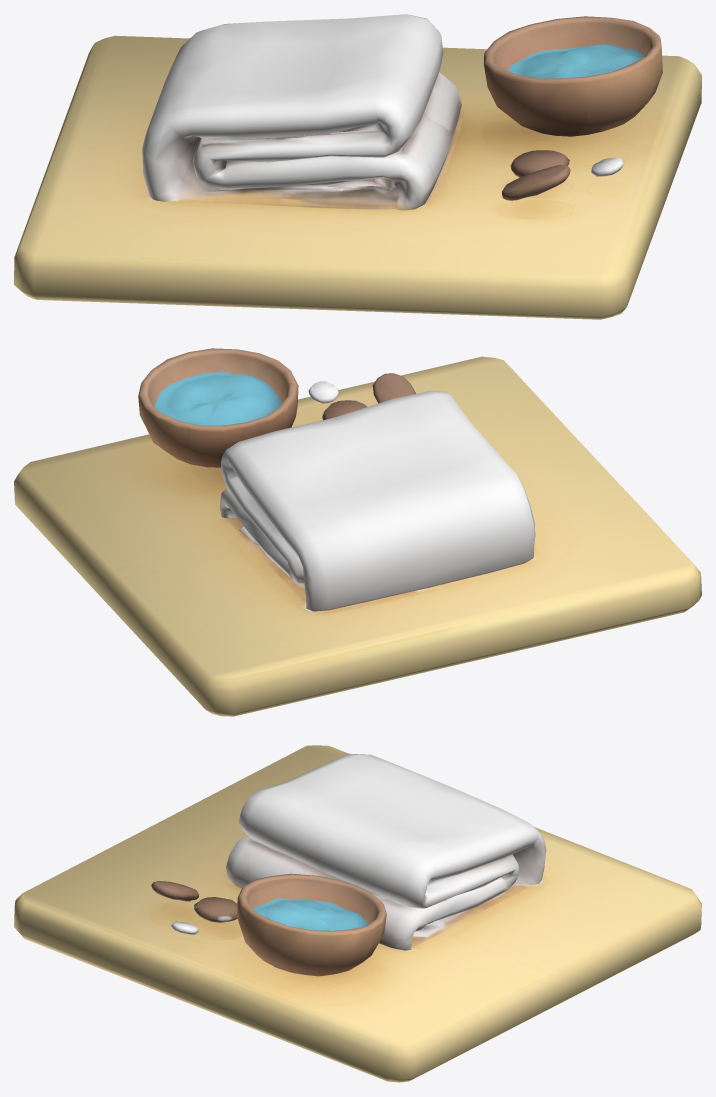
The picture shows the model from 3 angles, top to bottom: view 1: azimuth 30°, elevation 25°; view 2: azimuth 150°, elevation 25°; view 3: azimuth 270°, elevation 25°; orthographic projection. The views are drawn at different scales.
Visible parts, largest first — view 1: tripo_node_d802bfdb-f78a-43c1-bae4-ca50a74720d4; view 2: tripo_node_d802bfdb-f78a-43c1-bae4-ca50a74720d4; view 3: tripo_node_d802bfdb-f78a-43c1-bae4-ca50a74720d4.
Boxes of the visible parts, box(x1,y1,x2,y2) form: tripo_node_d802bfdb-f78a-43c1-bae4-ca50a74720d4: box(14, 14, 701, 319); tripo_node_d802bfdb-f78a-43c1-bae4-ca50a74720d4: box(14, 348, 701, 716); tripo_node_d802bfdb-f78a-43c1-bae4-ca50a74720d4: box(14, 745, 701, 1082).
Bounding box in the file's own units: 1.35 × 0.3145 × 1.35.
1 material, 1 textured.
